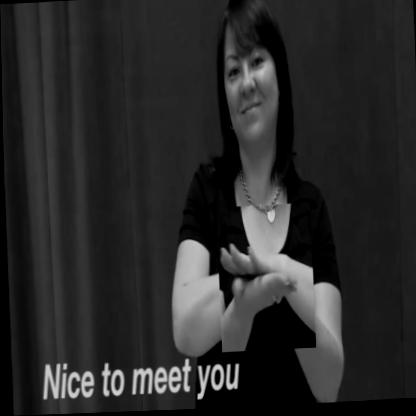NiceToMeetYou: (215, 205, 315, 353)
